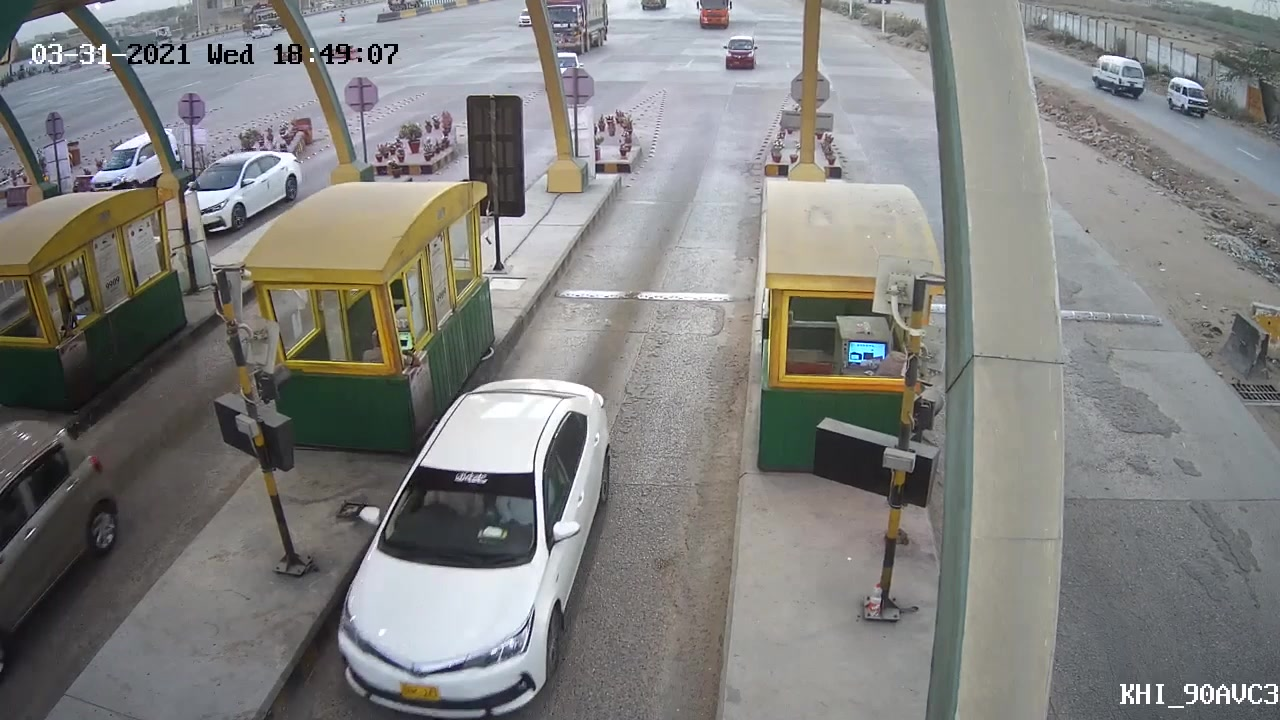F1: (330, 372, 616, 720)
